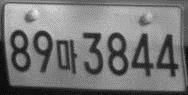3: (81, 32, 103, 75)
4: (155, 32, 179, 78), (130, 32, 154, 76)
8: (106, 30, 129, 76), (8, 29, 31, 72)
9: (32, 30, 53, 73)
마: (55, 38, 78, 75)
